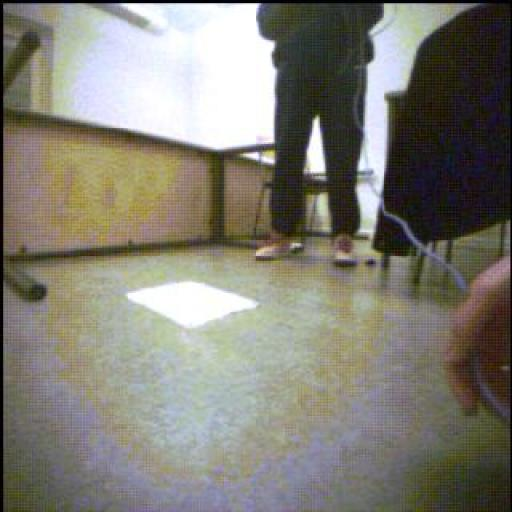Pad: (128, 283, 259, 329)
